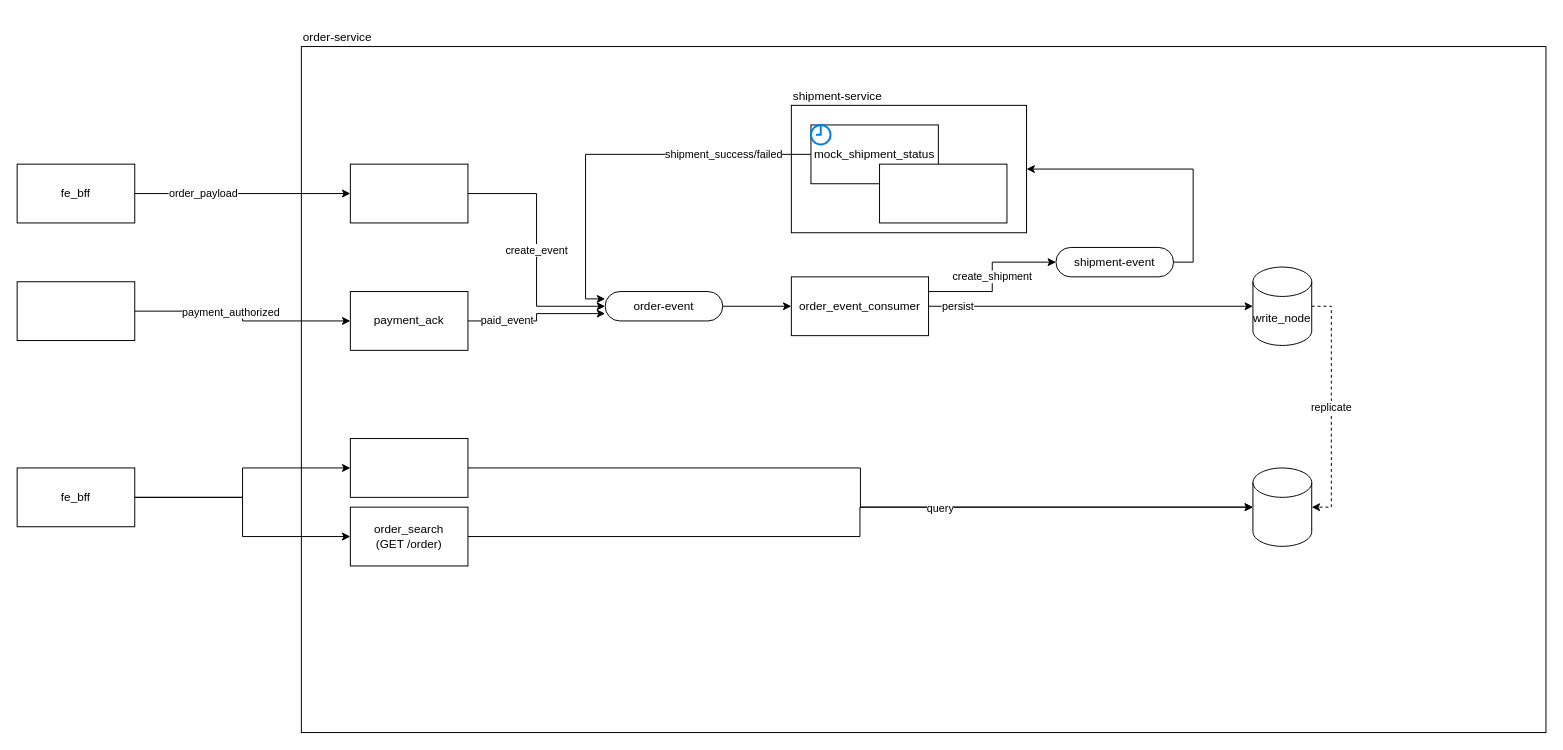
Some shapes in this 1563 by 750 pixel diagram are drawn without their labels. Here are the shapes that lost their labels. From the top down, the centre of each, then its label:
the point at 408,193: order_creation (POST /order)
the point at 943,193: mock update (PUT /order/{id}/shipment)
the point at 75,311: payment_provider
the point at 408,467: retrieve_order (GET /order/{id})
the point at 1282,506: read_node
